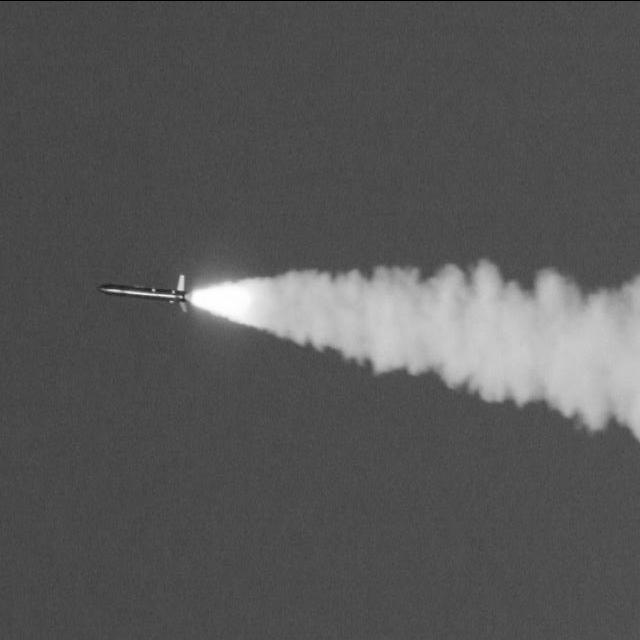missile: (96, 276, 187, 308)
